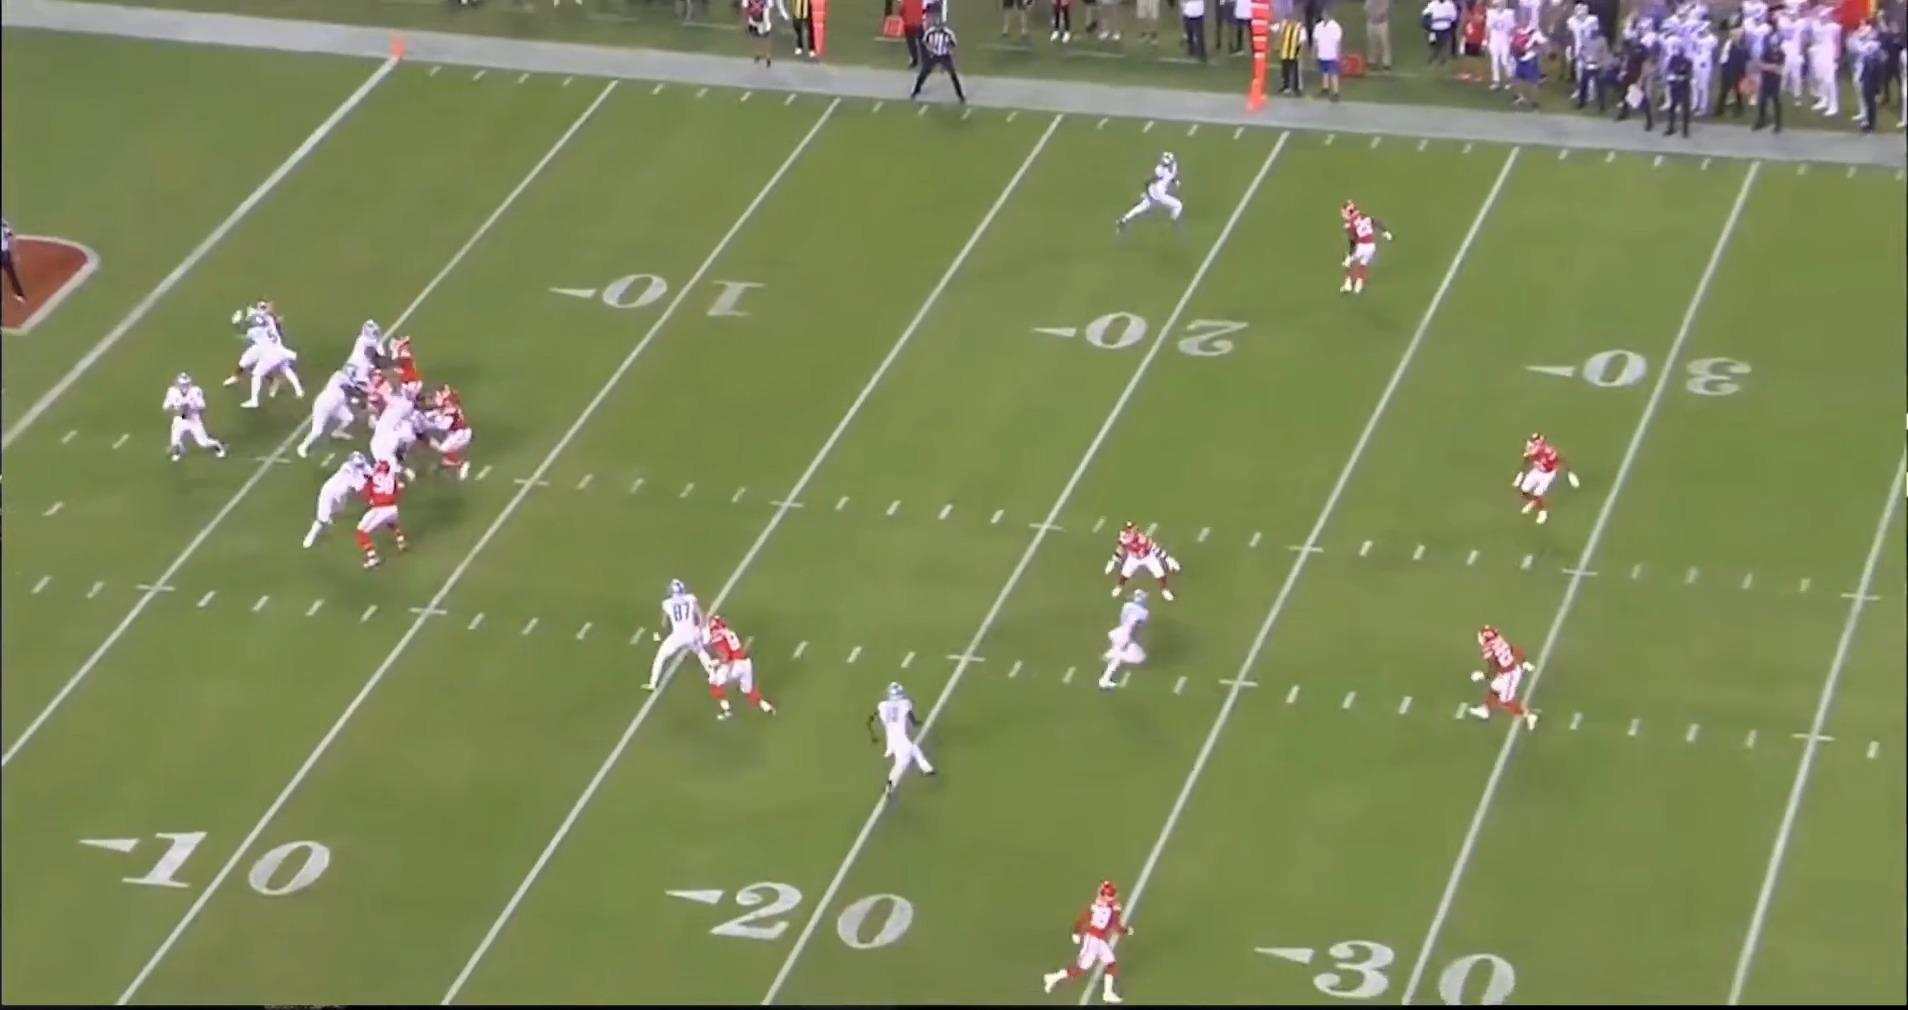player: (1039, 880, 1138, 1002), (862, 681, 935, 802), (646, 582, 720, 701), (707, 615, 785, 726), (1461, 625, 1536, 735), (288, 361, 366, 458), (244, 308, 315, 413), (295, 450, 368, 552), (1099, 519, 1178, 606), (1110, 149, 1185, 238), (1510, 433, 1576, 533), (162, 371, 232, 465), (350, 460, 409, 566), (1091, 595, 1151, 697), (225, 295, 293, 385), (1340, 202, 1395, 301), (367, 394, 432, 474), (427, 392, 479, 482), (378, 329, 423, 402), (347, 318, 391, 385)
ref: (913, 14, 979, 104), (0, 201, 28, 308)
